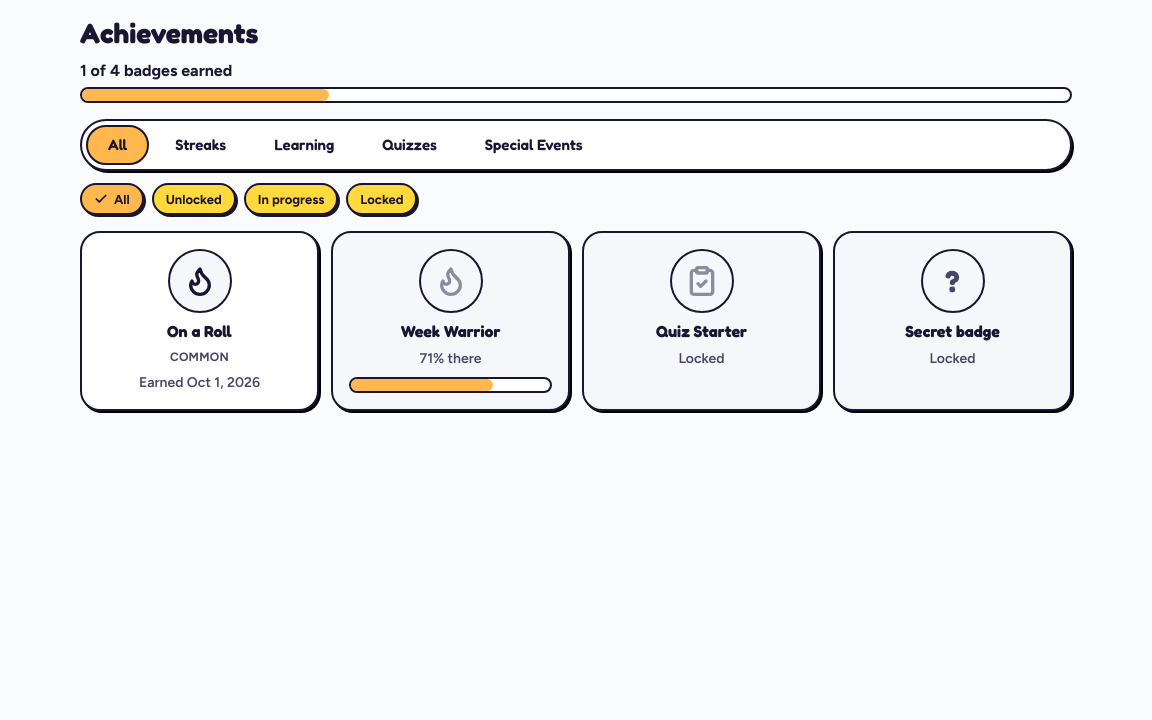
Test: AchievementsPage › shows progress and no pin button for a locked badge
The width and height of the screenshot is (1152, 720).
Click the button "Week Warrior 71% there" at {"x": 450, "y": 321}, box [331, 231, 570, 411]
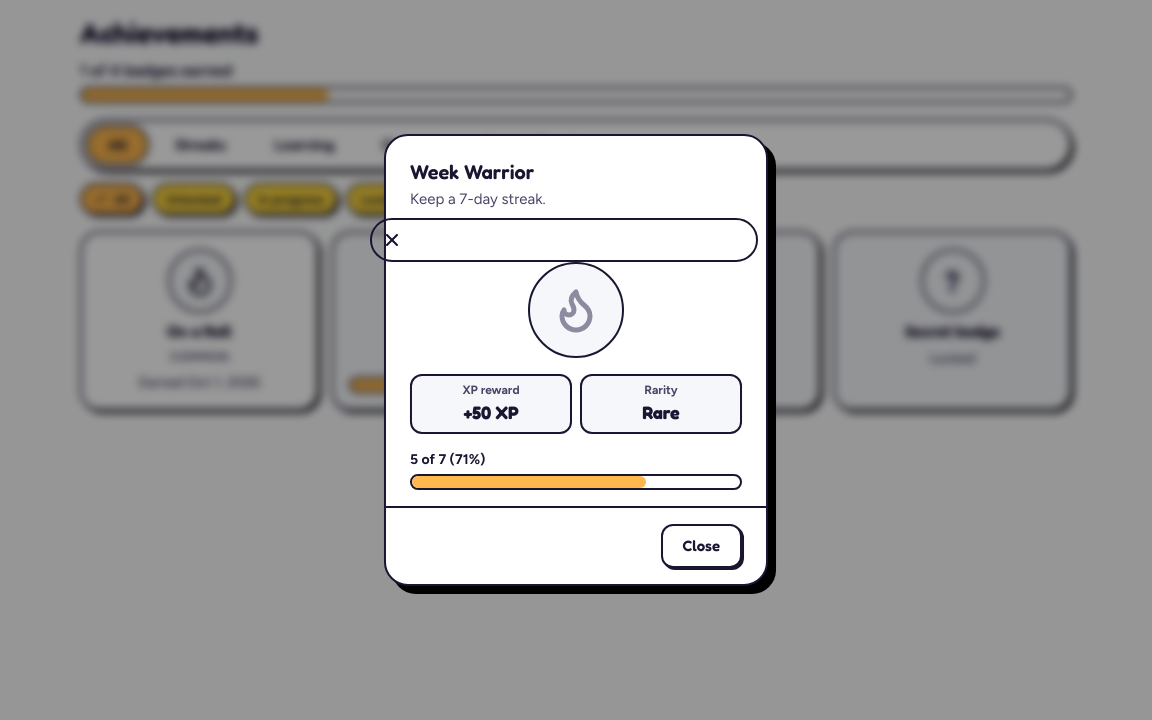
Now the text "5 of 7 (71%)" is shown, box [410, 451, 485, 468]
